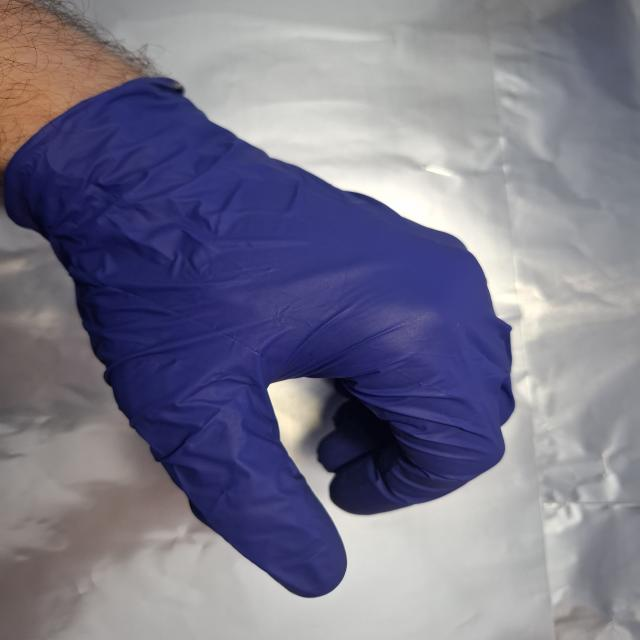glove_on: (18, 83, 519, 602)
